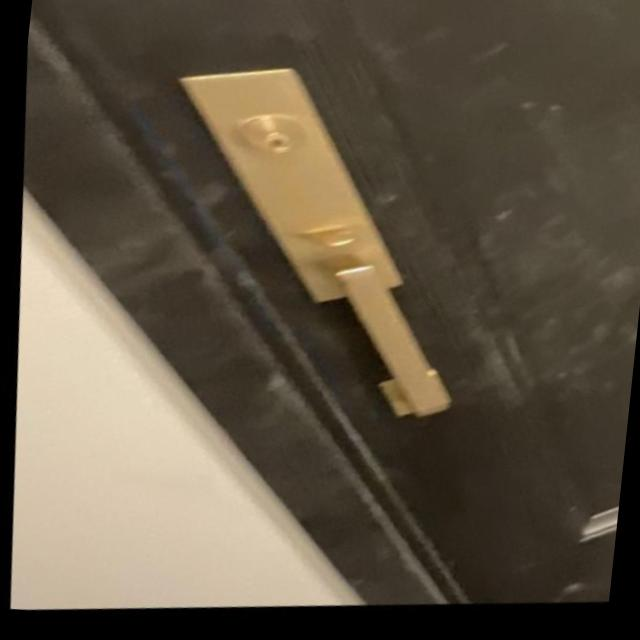door_handle: (298, 252, 469, 446)
